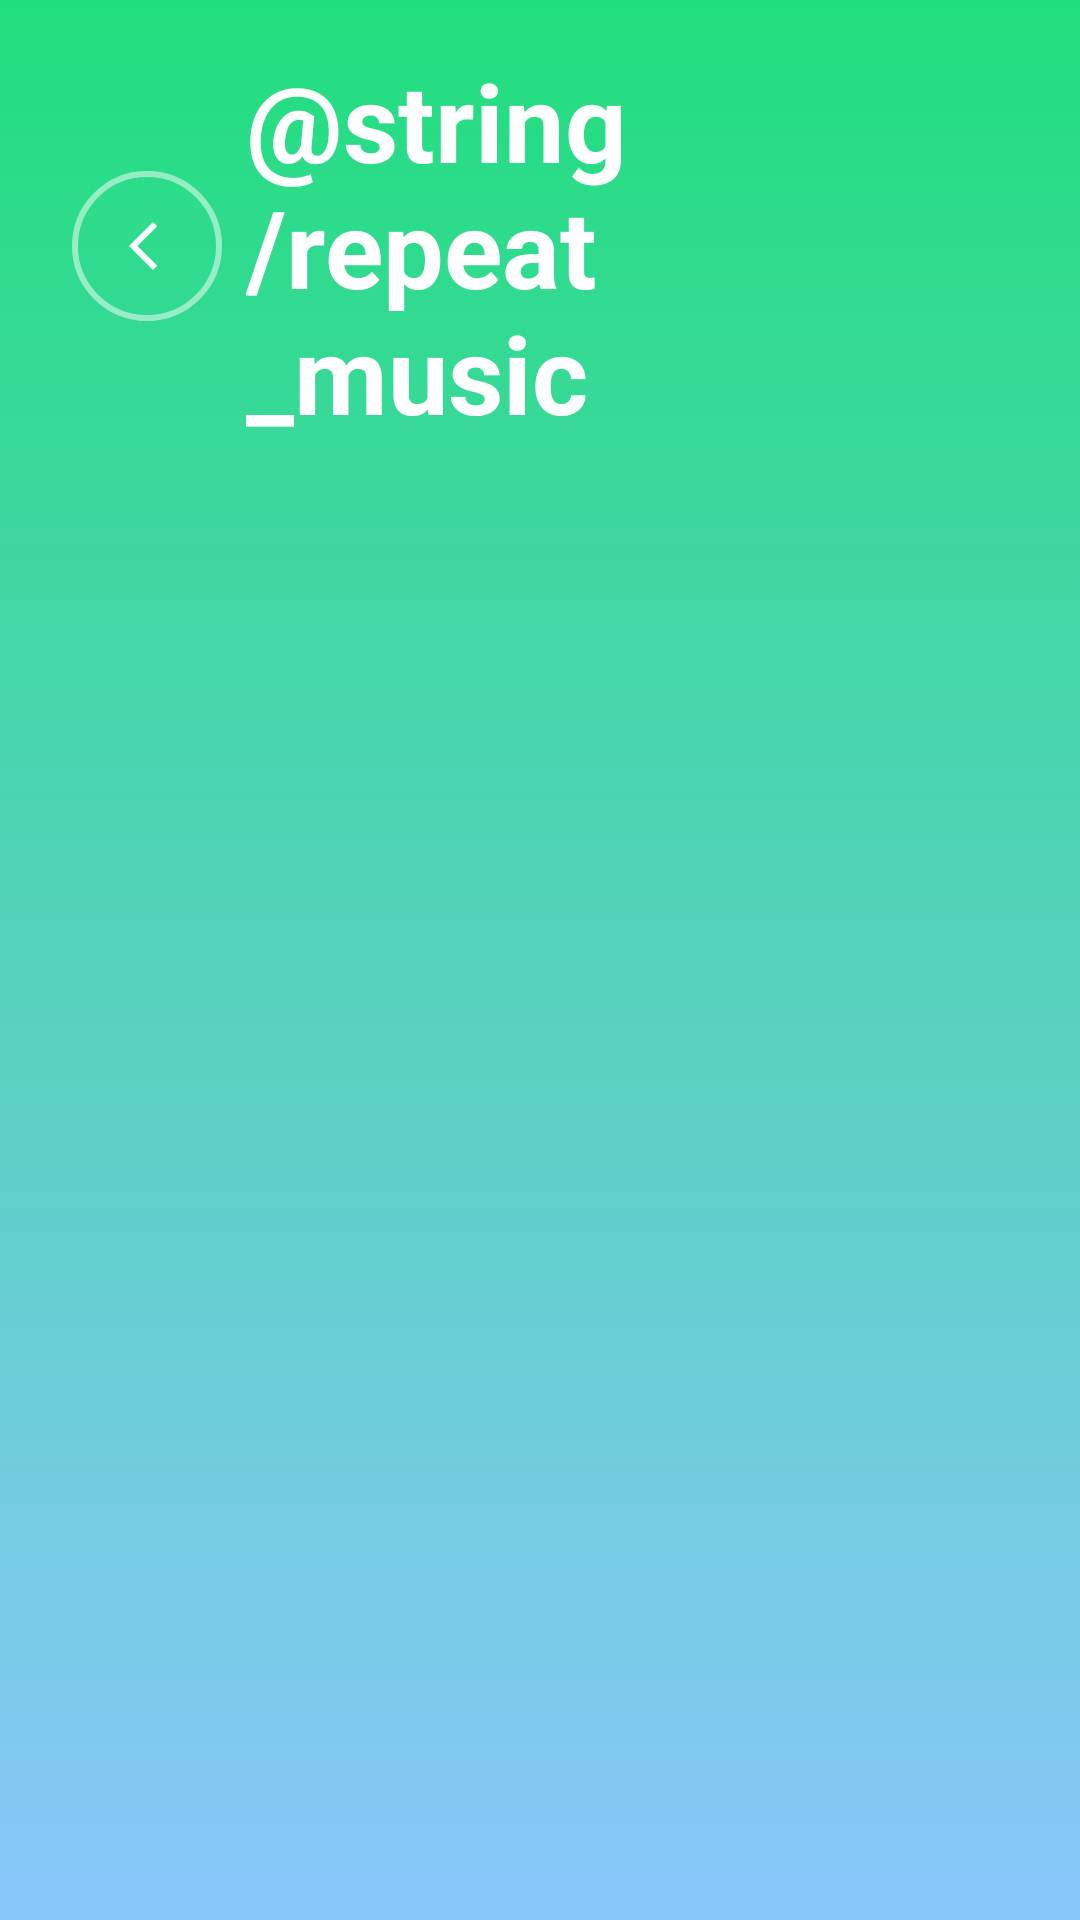

Locate icon controls on the screen. Image size 1080×1920, boxes as (x1, y1, x2, y2).
Назад: (72, 171, 222, 321)
